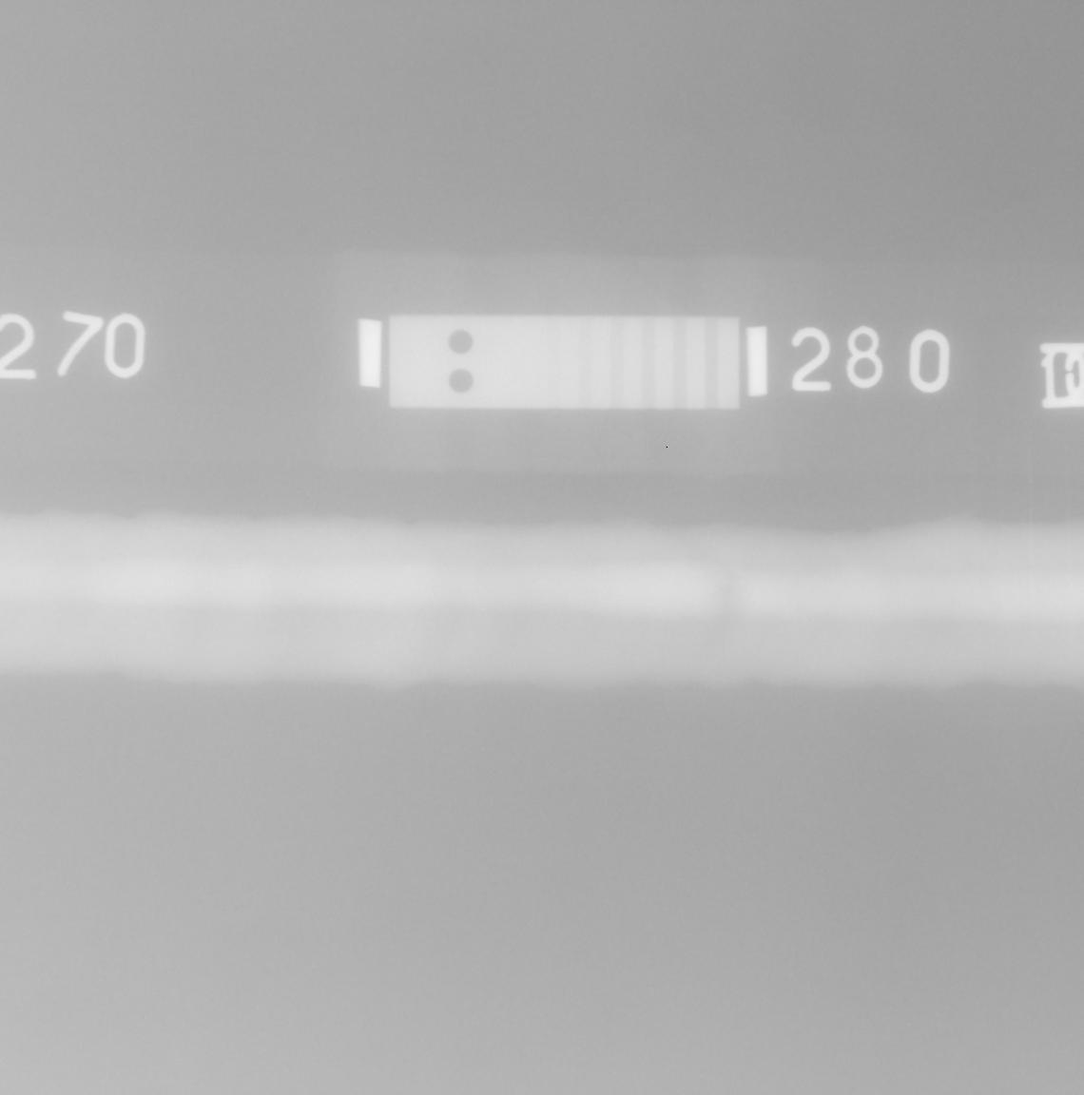Inclusion: (980, 563, 987, 572), (967, 563, 973, 570)
Reference Standard 2: (388, 315, 740, 409)
